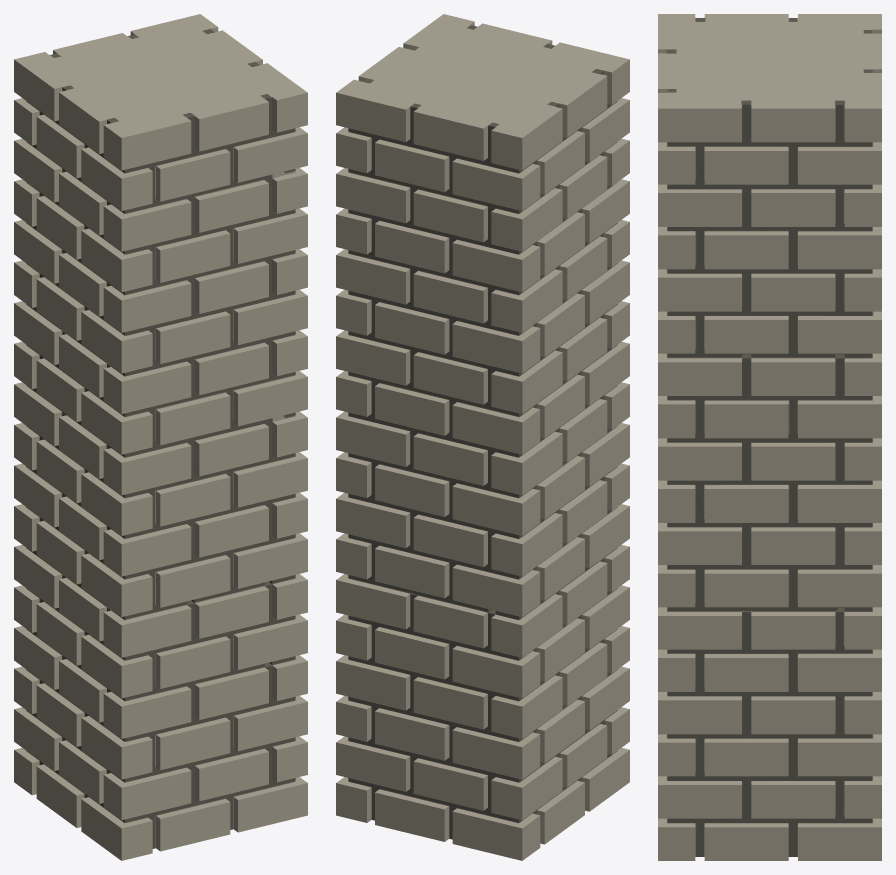
Rendered from Column_1.fbx.
3 views of the same model, side by side, from view 1: azimuth 30°, elevation 25°; view 2: azimuth 150°, elevation 25°; view 3: azimuth 270°, elevation 25° (orthographic). The views are drawn at different scales.
Visible parts, largest first — view 1: Walls-2Cleaned; view 2: Walls-2Cleaned; view 3: Walls-2Cleaned.
Part boxes in pixels (x1,y1,x2,y2): Walls-2Cleaned: (14,14,307,860); Walls-2Cleaned: (336,14,629,860); Walls-2Cleaned: (658,14,881,860).
Size of the model in its own units: 240 by 890 by 240.
